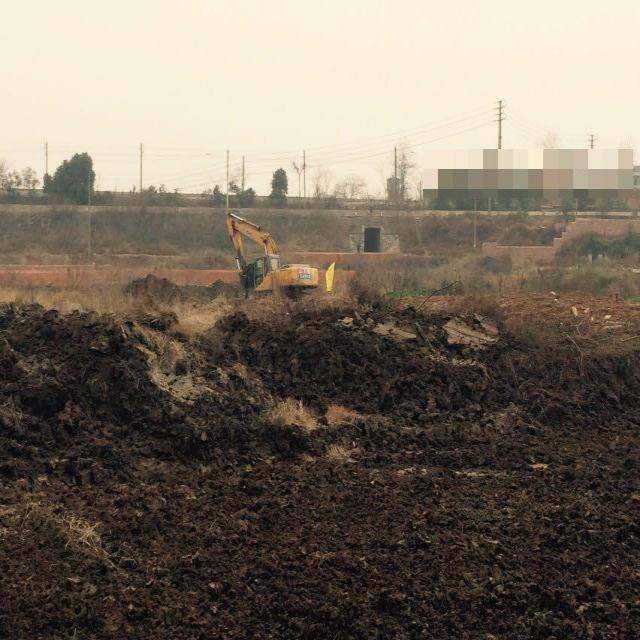excavator: (220, 202, 343, 304)
